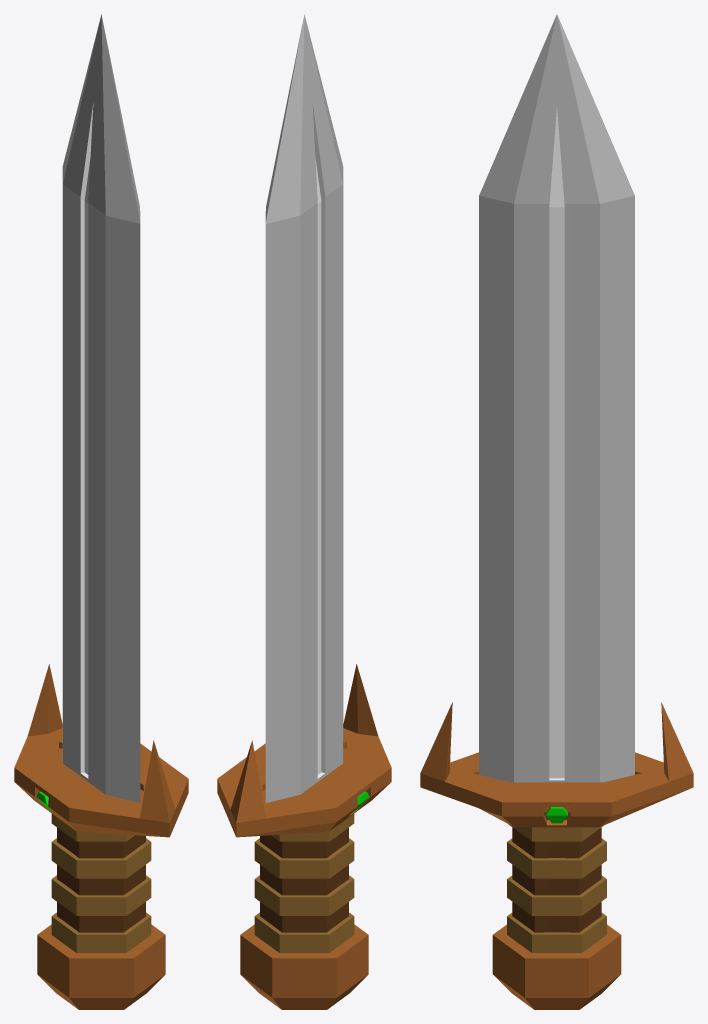
The model's file is miecz.fbx.
The picture shows the model from 3 angles, left to right: view 1: azimuth 30°, elevation 25°; view 2: azimuth 150°, elevation 25°; view 3: azimuth 270°, elevation 25°; orthographic projection.
Visible parts, largest first — view 1: sword; view 2: sword; view 3: sword.
Boxes of the visible parts, x1,y1,x2,y2 form: sword: (14,14,188,1009); sword: (217,14,391,1009); sword: (420,14,693,1009).
Bounding box in the file's own units: 23.81 × 186 × 46.97.
